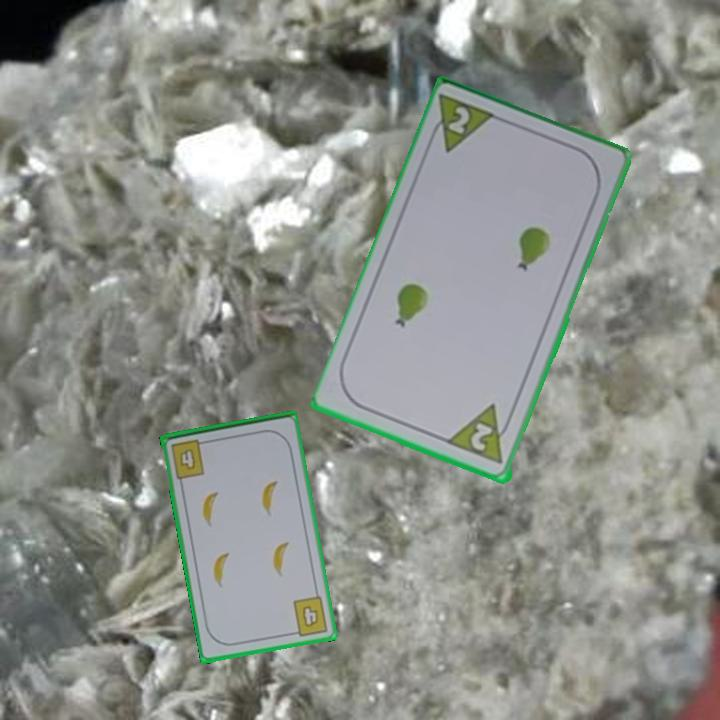2p: (444, 103, 474, 138), (467, 420, 496, 455)
4b: (287, 593, 331, 639), (167, 436, 211, 481)
